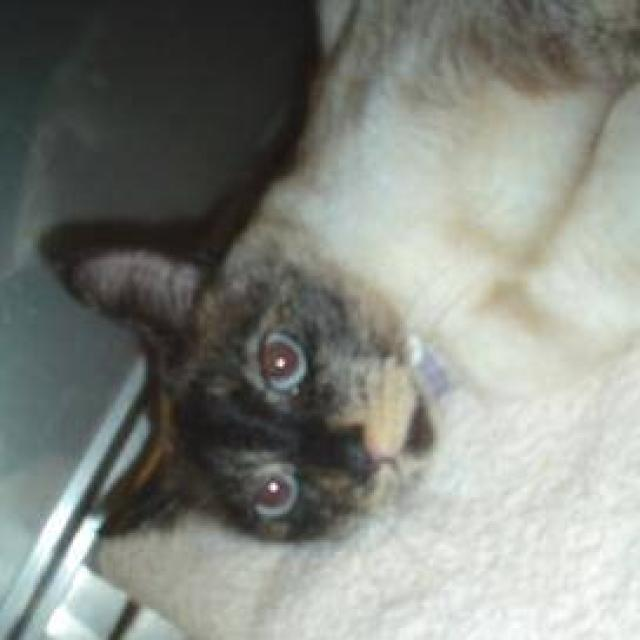cat: (35, 0, 638, 545)
